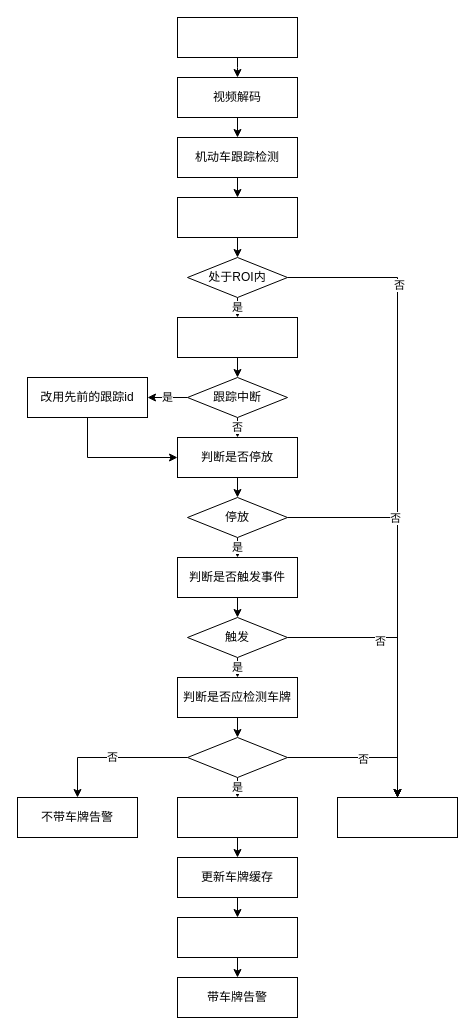
This 475x1035 diagram has some shape labels left out. The centre of each missing label's shape, as x and y in pixels:
不告警: pixel 397 817
判断是否跟踪中断: pixel 237 337
取出现次数最多的车牌: pixel 237 937
标记ROI: pixel 237 37
检测: pixel 237 757
计算是否处于ROI内: pixel 237 217
车牌检测: pixel 237 817
